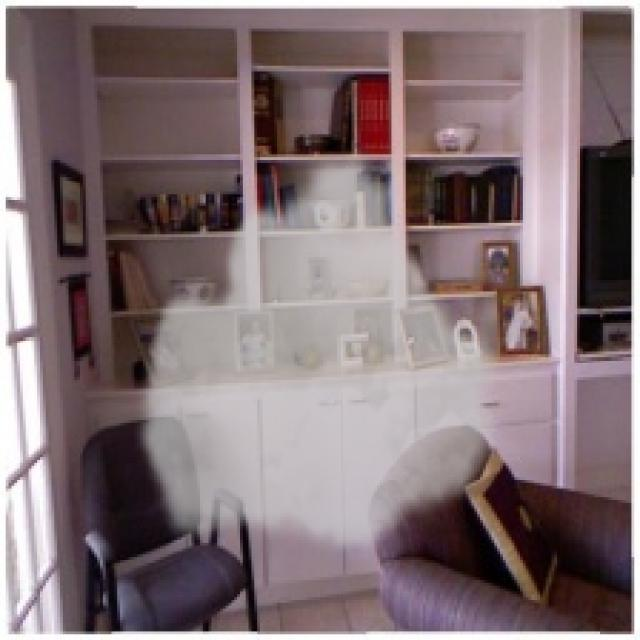Smoke: (134, 146, 509, 554)
